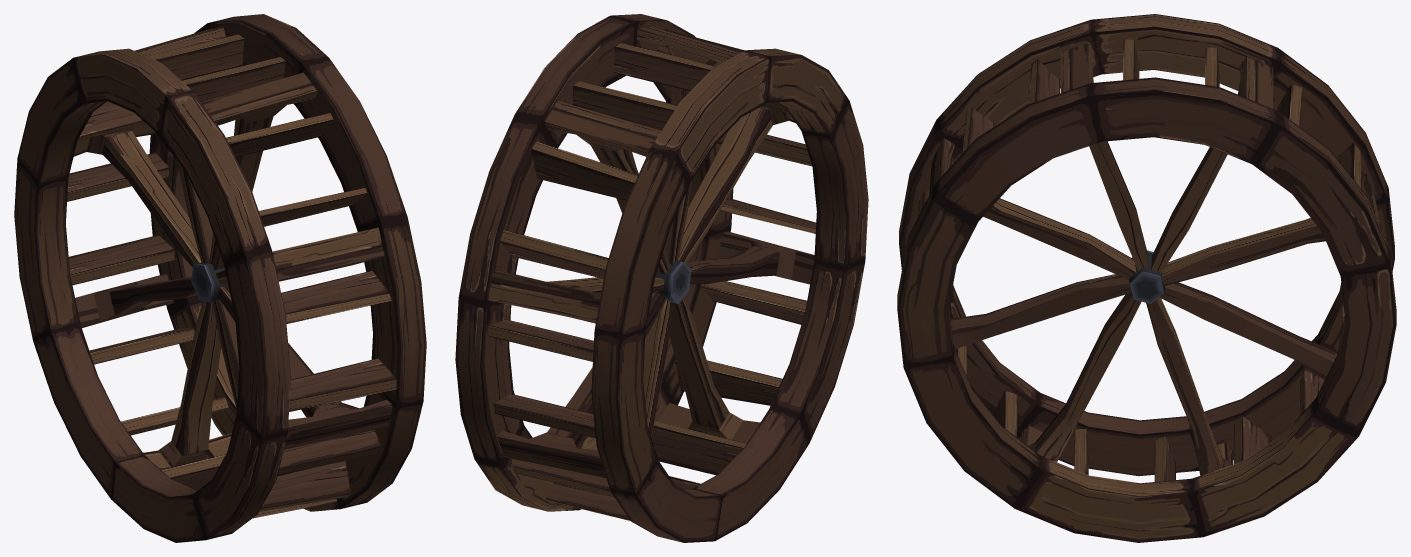
The model's file is SM_PROP_waterwheel_dungeon_01.fbx.
The picture shows the model from 3 angles, left to right: view 1: azimuth 30°, elevation 25°; view 2: azimuth 150°, elevation 25°; view 3: azimuth 270°, elevation 25°; orthographic projection.
Parts seen in each view (by area): view 1: SM_PROP_waterwheel_dungeon_01; view 2: SM_PROP_waterwheel_dungeon_01; view 3: SM_PROP_waterwheel_dungeon_01.
Part boxes in pixels (x1,y1,x2,y2): SM_PROP_waterwheel_dungeon_01: (14, 14, 426, 542); SM_PROP_waterwheel_dungeon_01: (455, 14, 868, 542); SM_PROP_waterwheel_dungeon_01: (897, 14, 1396, 542).
Size of what is drawn, in the model's own units: 234 by 622 by 622.
